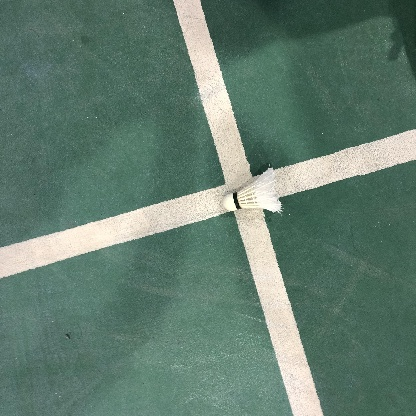ball_single: (223, 168, 282, 212)
